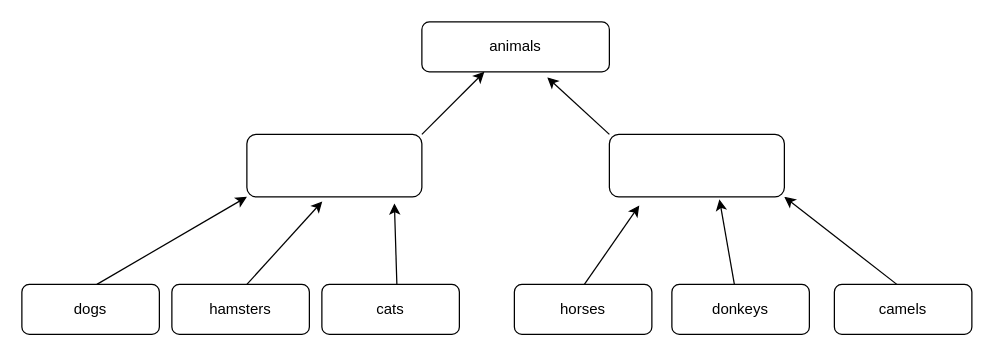
The diagram is 994 pixels wide and 356 high, and some of its shapes have lost their labels. Each missing label, with the box of its shape:
home_animals: (246, 133, 422, 197)
pack_animals: (608, 133, 784, 197)
